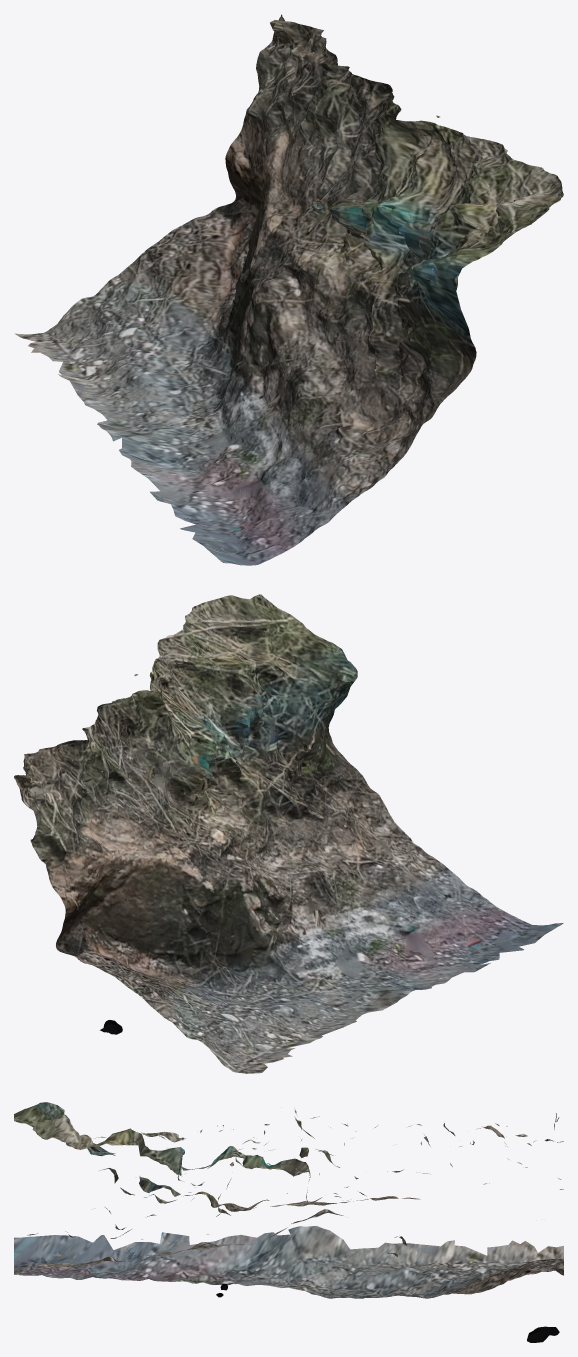
3 views of the same model, one above another, from view 1: azimuth 30°, elevation 25°; view 2: azimuth 150°, elevation 25°; view 3: azimuth 270°, elevation 25° (orthographic). The views are drawn at different scales.
Size of the model in its own units: 2 by 1.49 by 2.53.
Materials: 3 (3 with a texture image).
